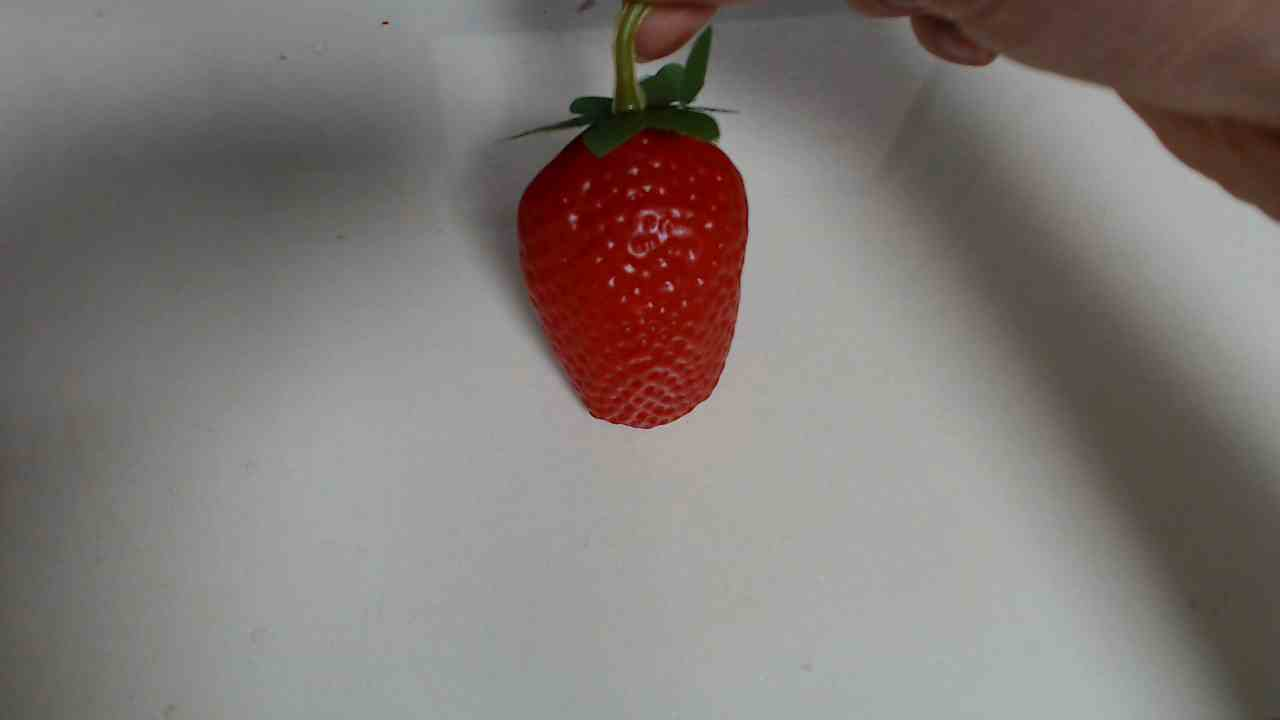strawberry: (501, 91, 761, 438)
